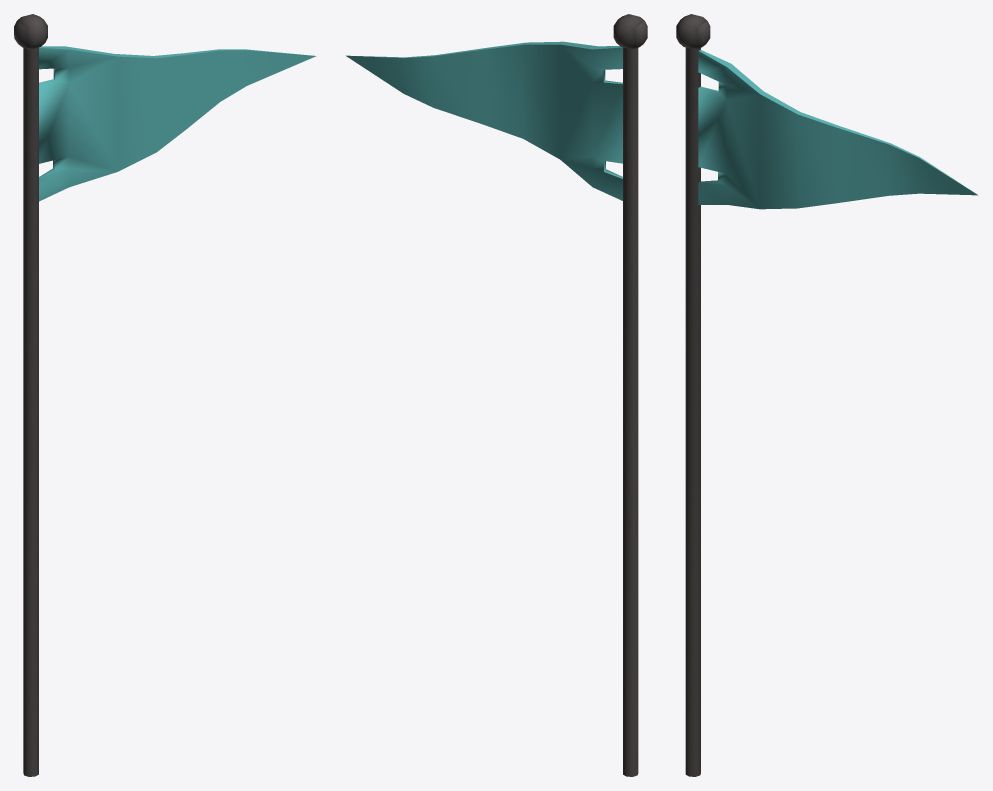
File: Vlag-1.fbx
The picture shows the model from 3 angles, left to right: view 1: azimuth 30°, elevation 25°; view 2: azimuth 150°, elevation 25°; view 3: azimuth 330°, elevation 25°; orthographic projection.
Visible parts, largest first — view 1: Cube, Cylinder, Sphere; view 2: Cube, Cylinder, Sphere; view 3: Cube, Cylinder, Sphere.
Boxes of the visible parts, box(x1,y1,x2,y2) form: Cube: box(39, 46, 316, 201); Cylinder: box(23, 47, 38, 776); Sphere: box(14, 14, 47, 49); Cube: box(346, 41, 622, 200); Cylinder: box(623, 47, 638, 776); Sphere: box(613, 14, 647, 49); Cube: box(698, 49, 977, 209); Cylinder: box(685, 47, 700, 776); Sphere: box(676, 14, 710, 49).
Bounding box in the file's own units: 406 × 980 × 44.41.
2 materials, 2 textured.
